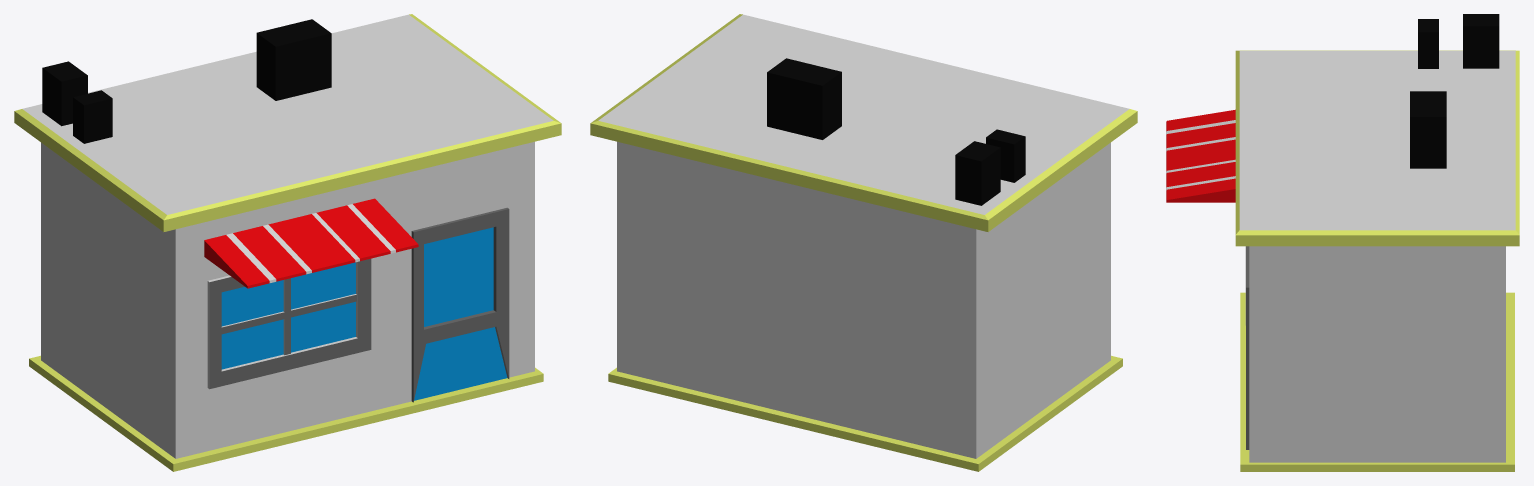
File: Shop.fbx
3 renders of one model, left to right at view 1: azimuth 30°, elevation 25°; view 2: azimuth 150°, elevation 25°; view 3: azimuth 270°, elevation 25°, orthographic. The views are drawn at different scales.
Visible parts, largest first — view 1: Cube; view 2: Cube; view 3: Cube.
Part boxes in pixels (x1=…): Cube: x1=14, y1=14, x2=561, y2=471; Cube: x1=590, y1=14, x2=1137, y2=471; Cube: x1=1166, y1=14, x2=1519, y2=471.
Bounding box in the file's own units: 1702 × 1280 × 1377.
